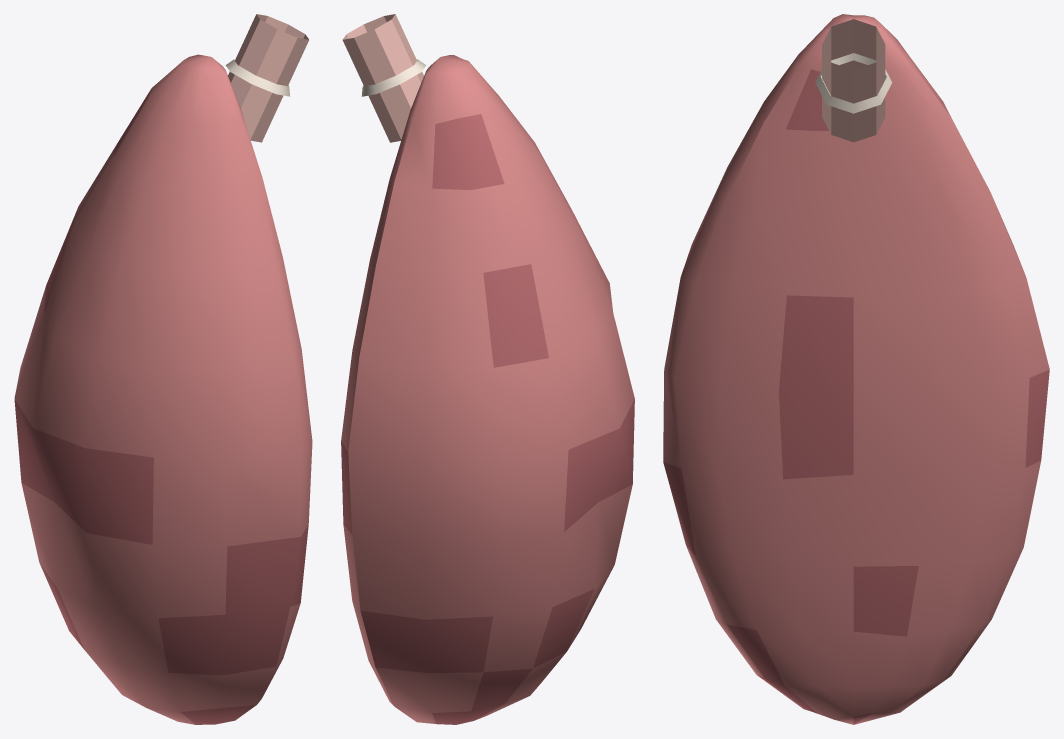
File: organ_lung_R.glb
3 views of the same model, side by side, from view 1: azimuth 30°, elevation 25°; view 2: azimuth 150°, elevation 25°; view 3: azimuth 270°, elevation 25° (orthographic). The views are drawn at different scales.
Parts seen in each view (by area): view 1: organ_lung_R; view 2: organ_lung_R; view 3: organ_lung_R.
Boxes of the visible parts, x1,y1,x2,y2 form: organ_lung_R: (14, 14, 312, 724); organ_lung_R: (341, 14, 634, 724); organ_lung_R: (663, 14, 1049, 724).
Size of the model in its own units: 0.0689 by 0.1657 by 0.0794.
